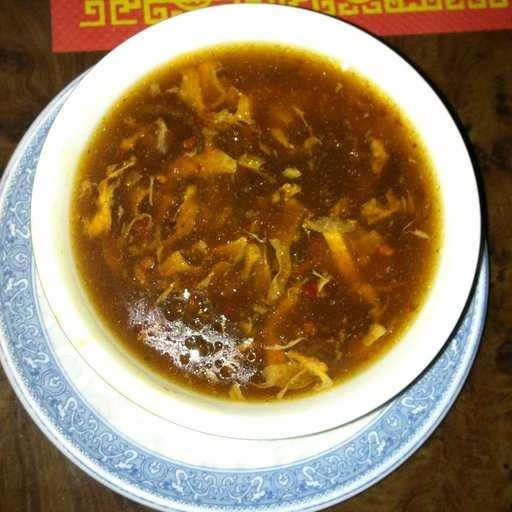soup: (70, 52, 441, 372)
